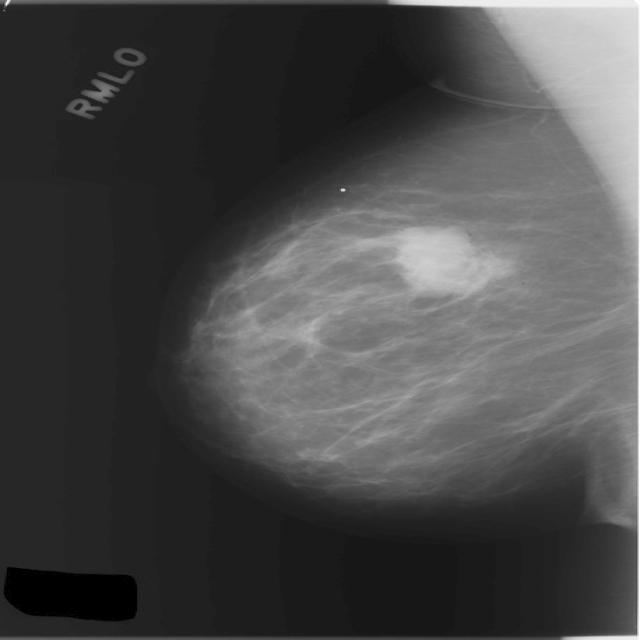tumour: (390, 224, 504, 291)
